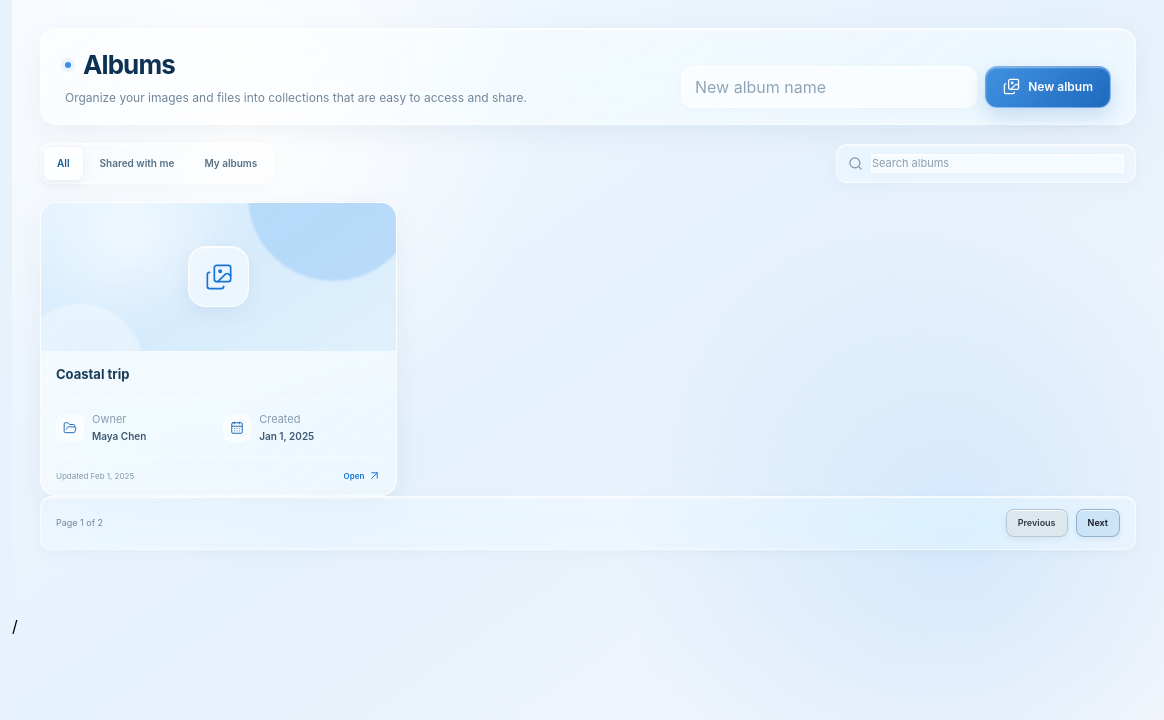
page workflows › renders album cards with update dates and navigates through paginated results
The width and height of the screenshot is (1164, 720).
Click the button "Coastal trip". click: (219,349)
box: [40,202,397,496]
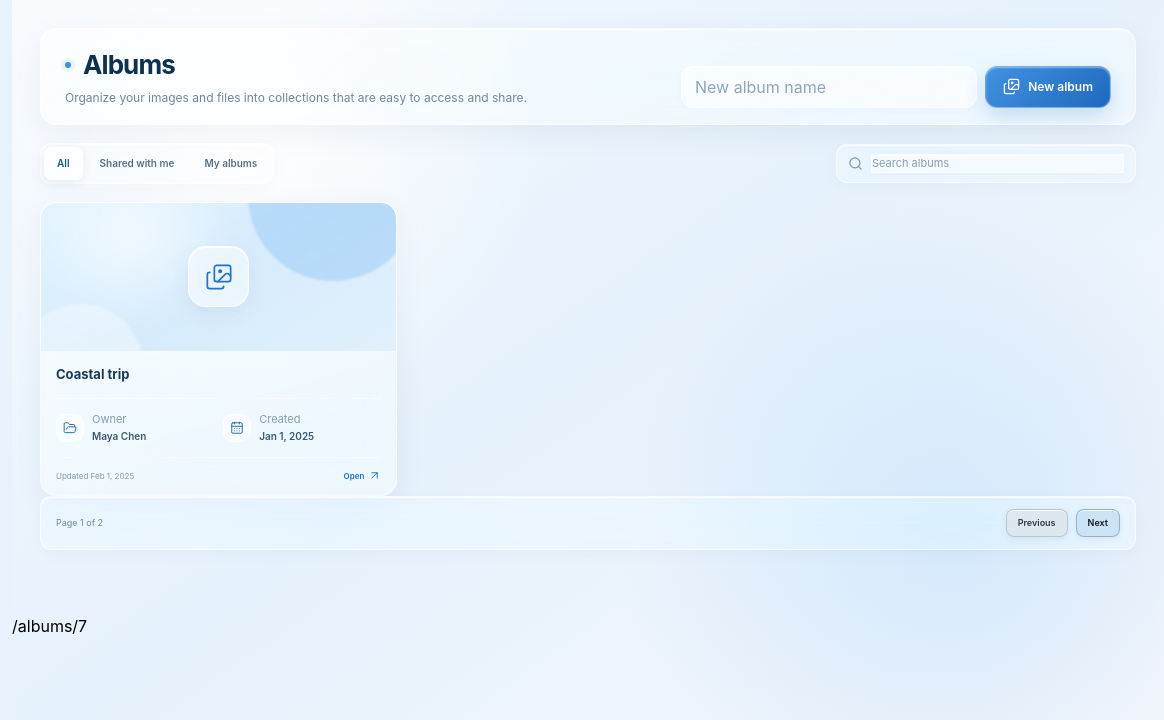
expect the text with test id "current-path" reads "/albums/7": met, box [12,616,87,636]
